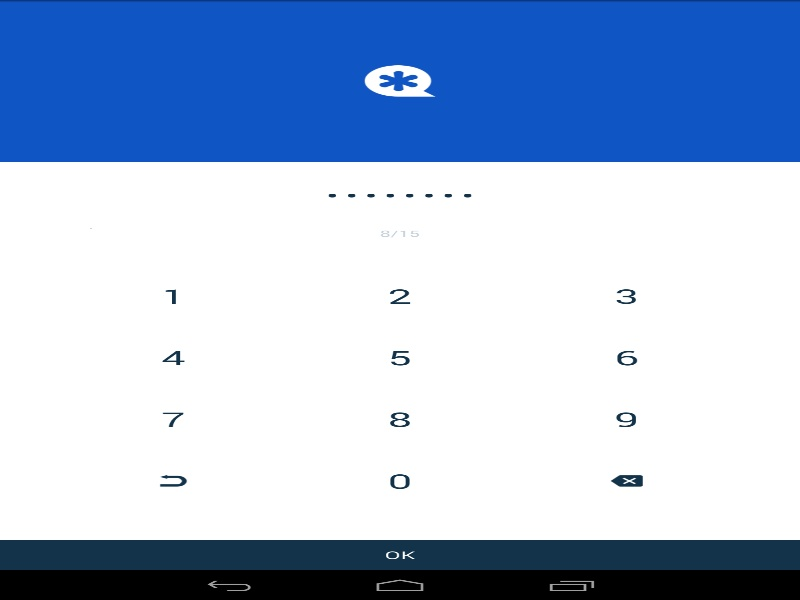Input: (60, 161, 740, 228)
